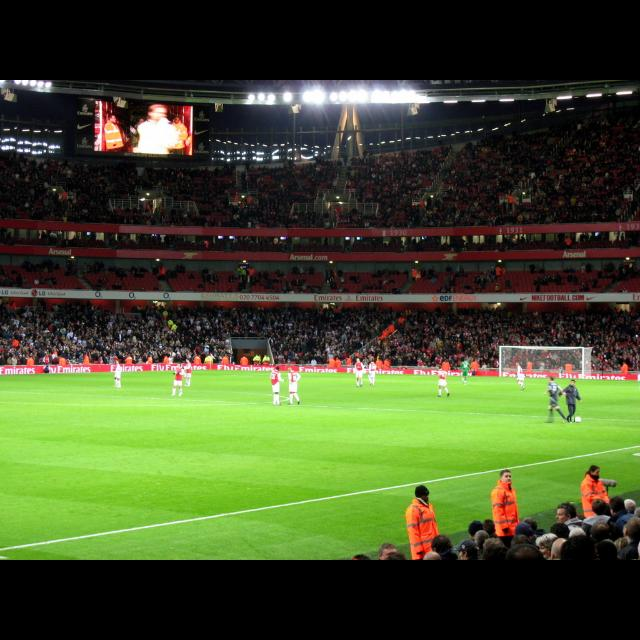Football: (574, 414, 580, 422)
